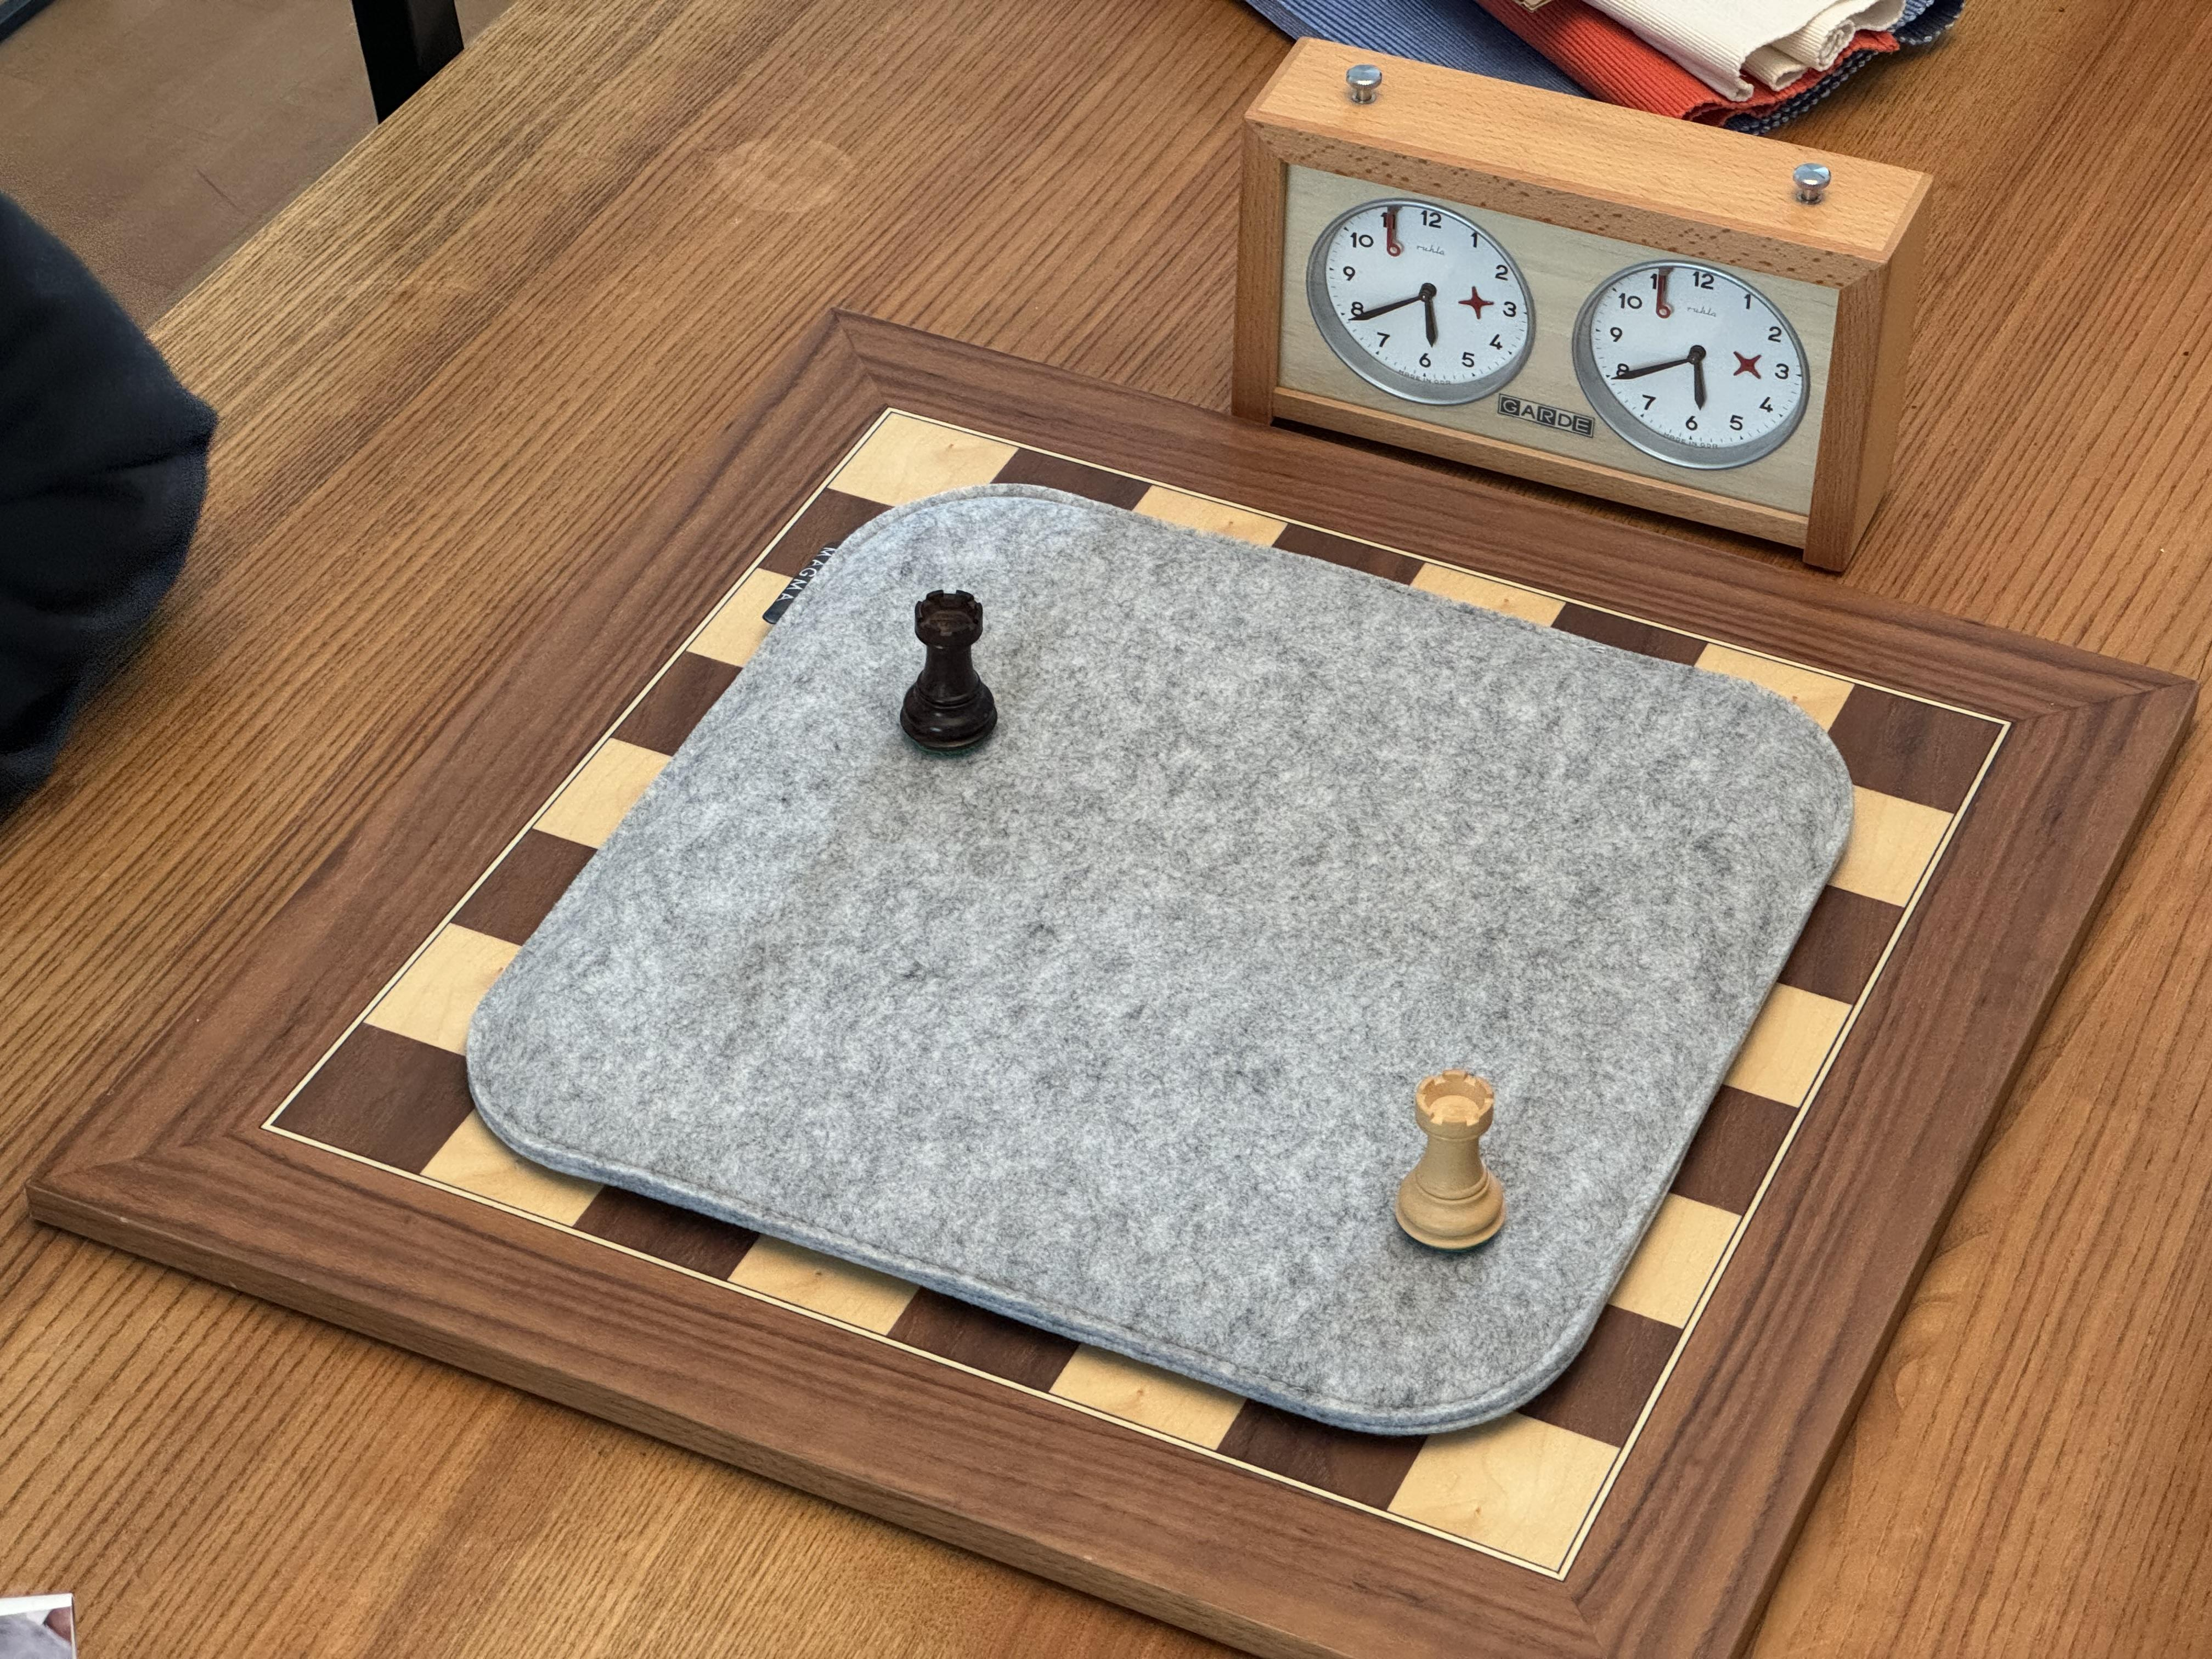Black Rook: (876, 568, 1019, 772)
White Rook: (1379, 1058, 1517, 1270)
